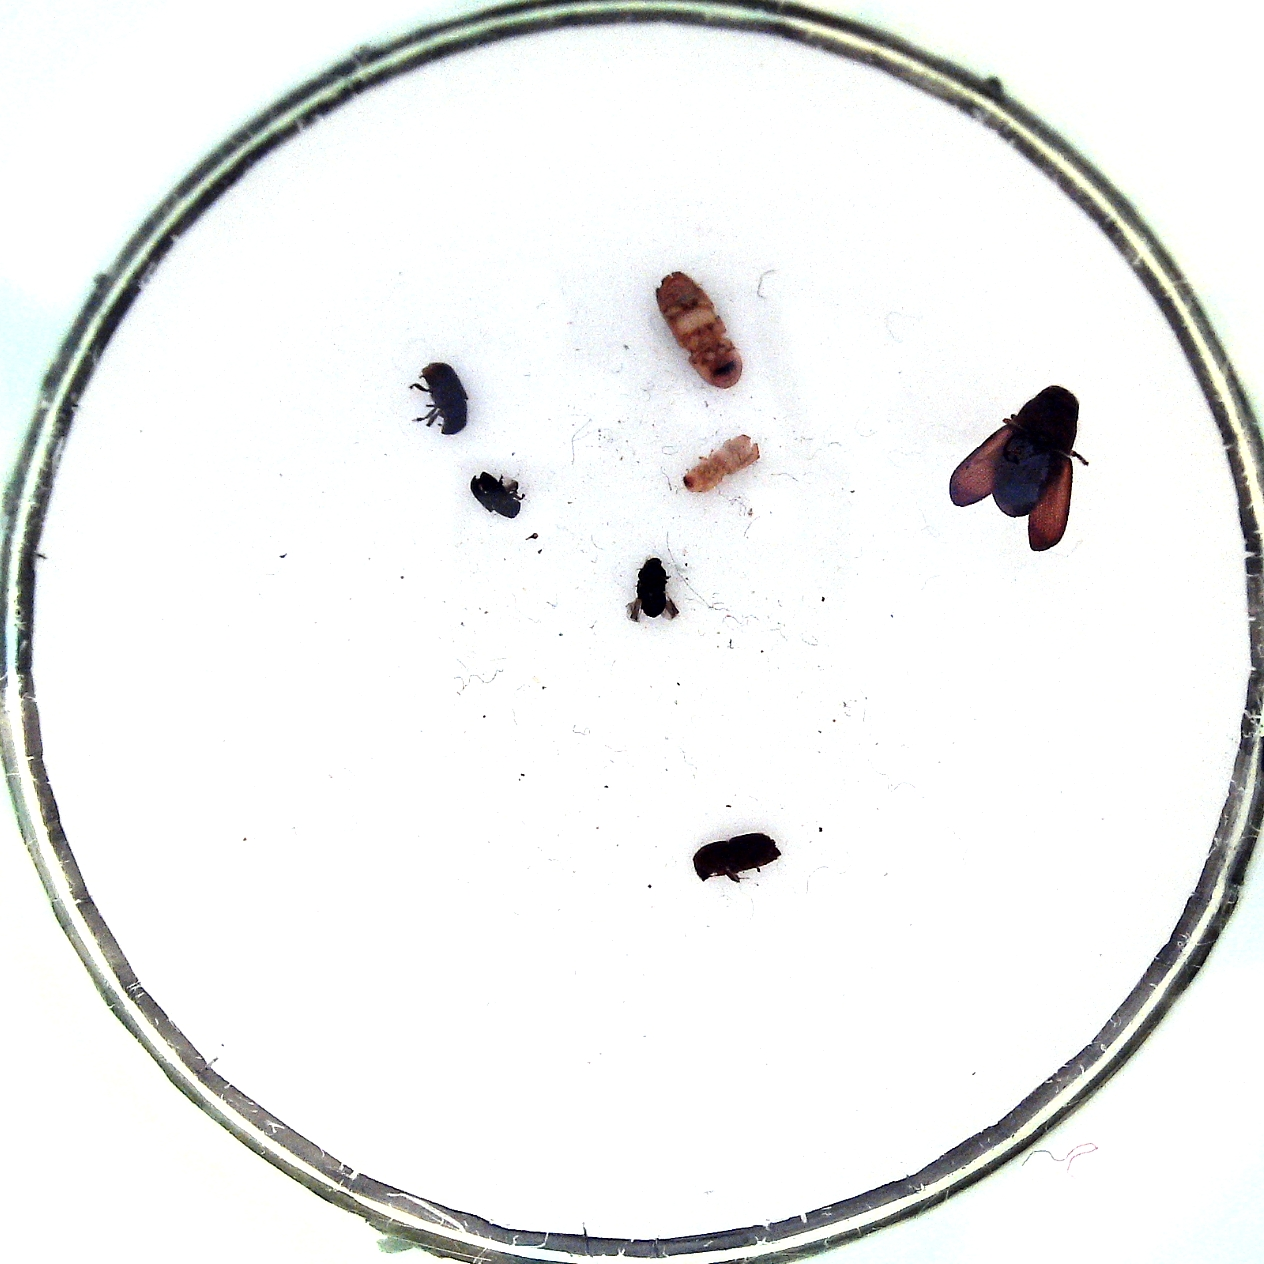Boerner: (654, 271, 743, 389)
Leconte: (990, 385, 1079, 519)
acuminatus: (638, 558, 670, 618)
armandi: (421, 361, 468, 435)
coleoptera: (469, 472, 521, 519)
linnaeus: (681, 435, 760, 493), (692, 833, 782, 882)
